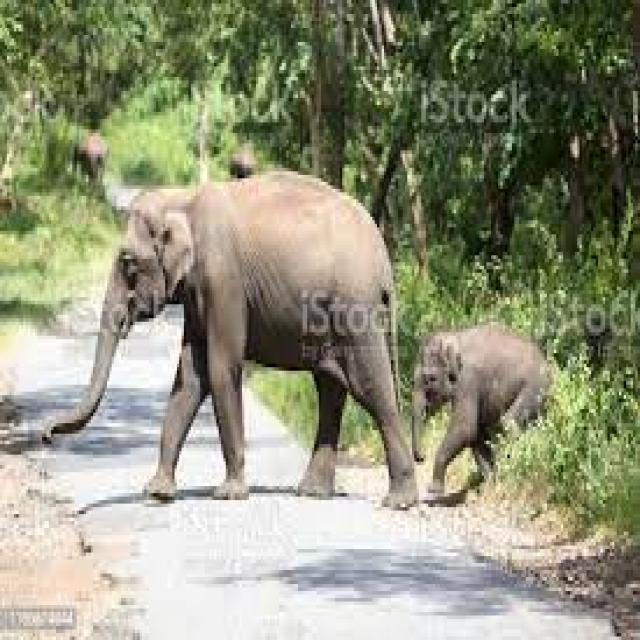Elephant: (47, 172, 423, 508), (407, 313, 570, 503)
